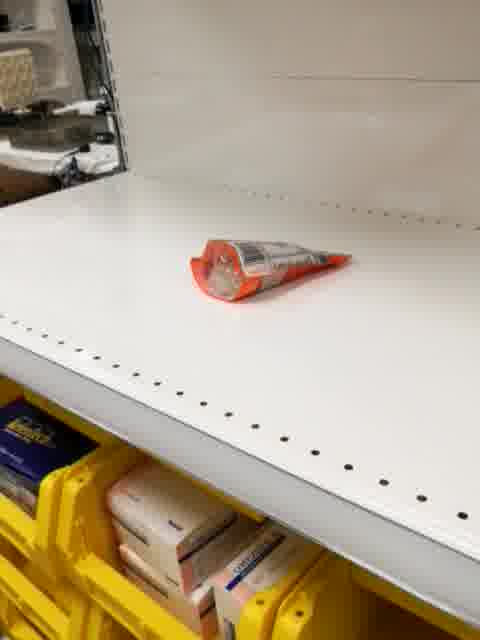whitechia: (189, 238, 353, 303)
